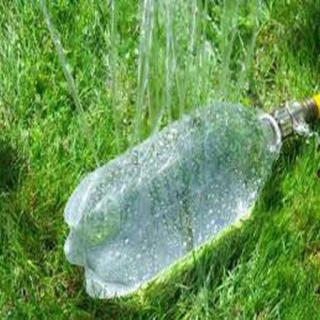Plastic-bottle: (63, 83, 320, 301)
